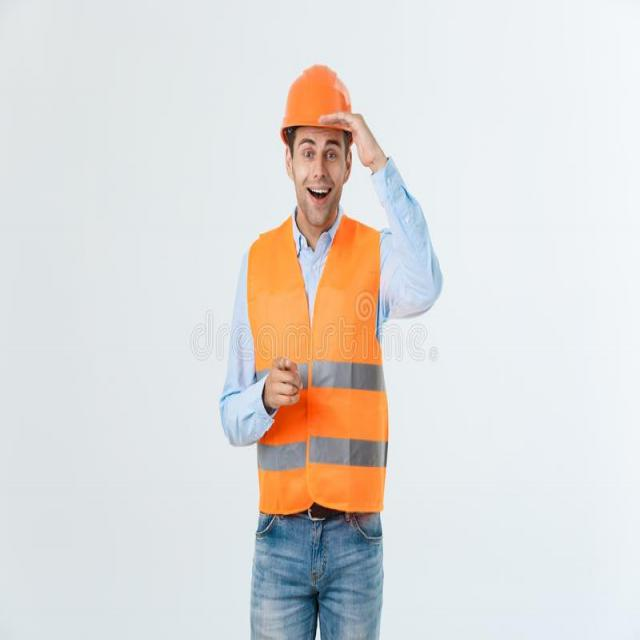Reflective-Jacket: (244, 216, 391, 516)
Safety-Helmet: (277, 60, 358, 141)
